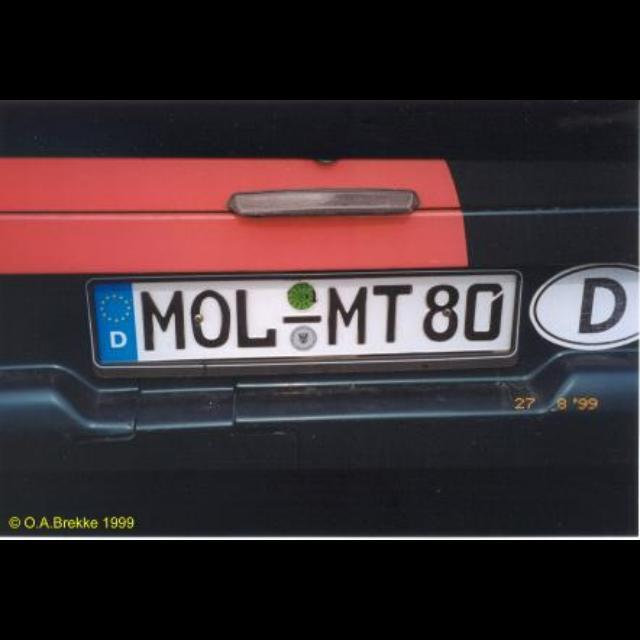license-plates: (89, 273, 521, 370)
